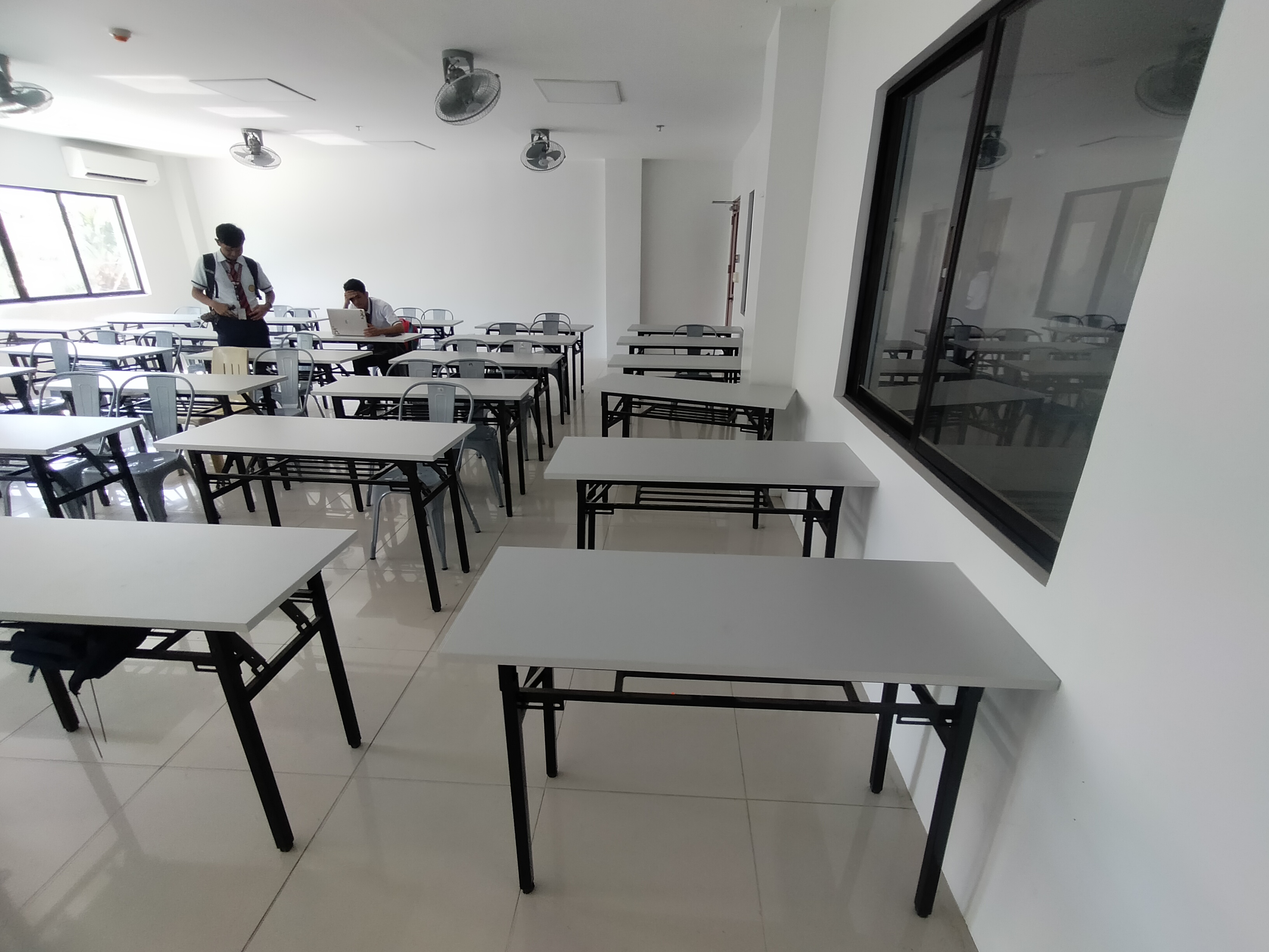with-student: (274, 275, 425, 349)
